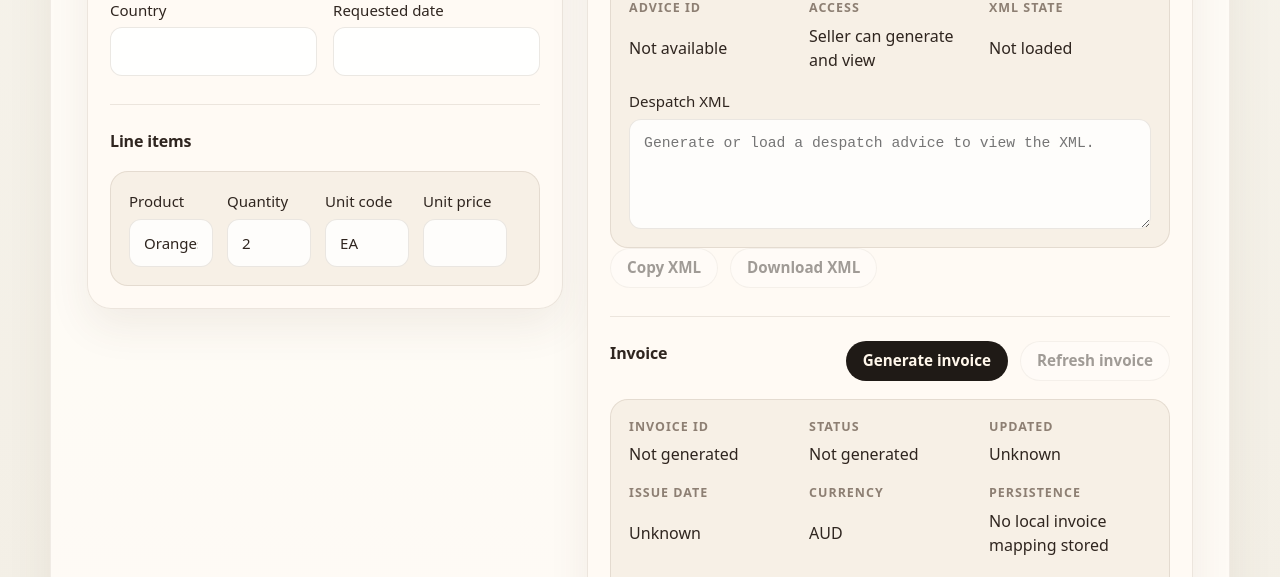
Scenario: VoiceOrderDemo › surfaces invoice generation validation errors inside the document panel
The width and height of the screenshot is (1280, 577).
(page scrolled)
What coordinates should you click on to do the following:
click the button "Generate invoice"
I would click on:
 (927, 361)
Its box is [846,341,1008,381].
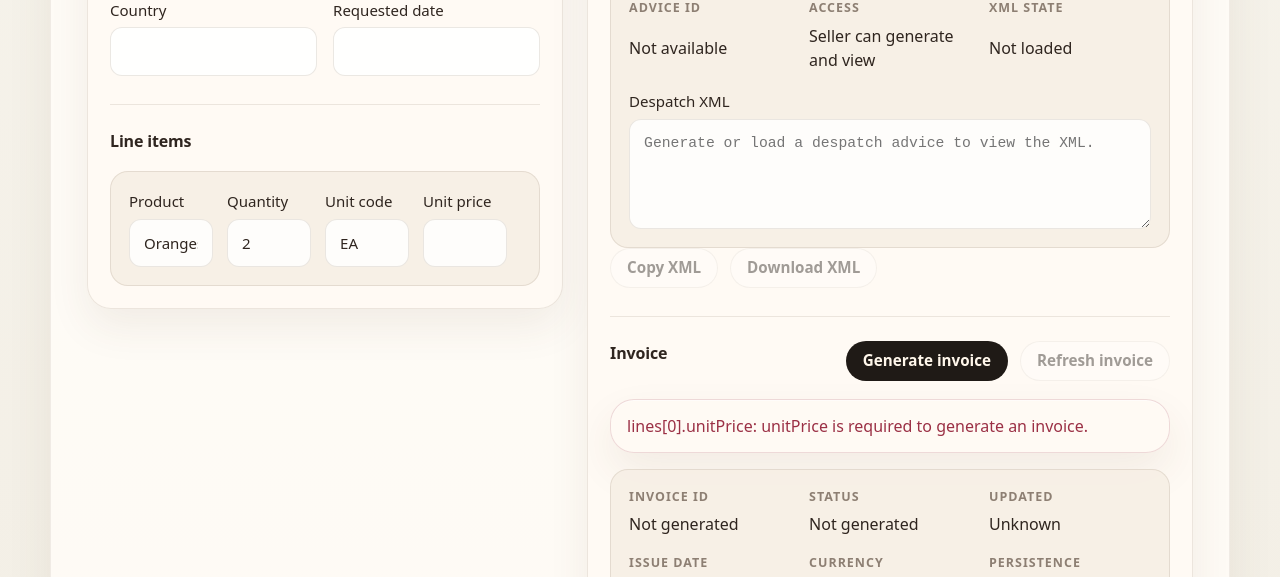
Now the message reads "lines[0].unitPrice: unitPrice is required to generate an invoice.", box [627,415,1088,437]
